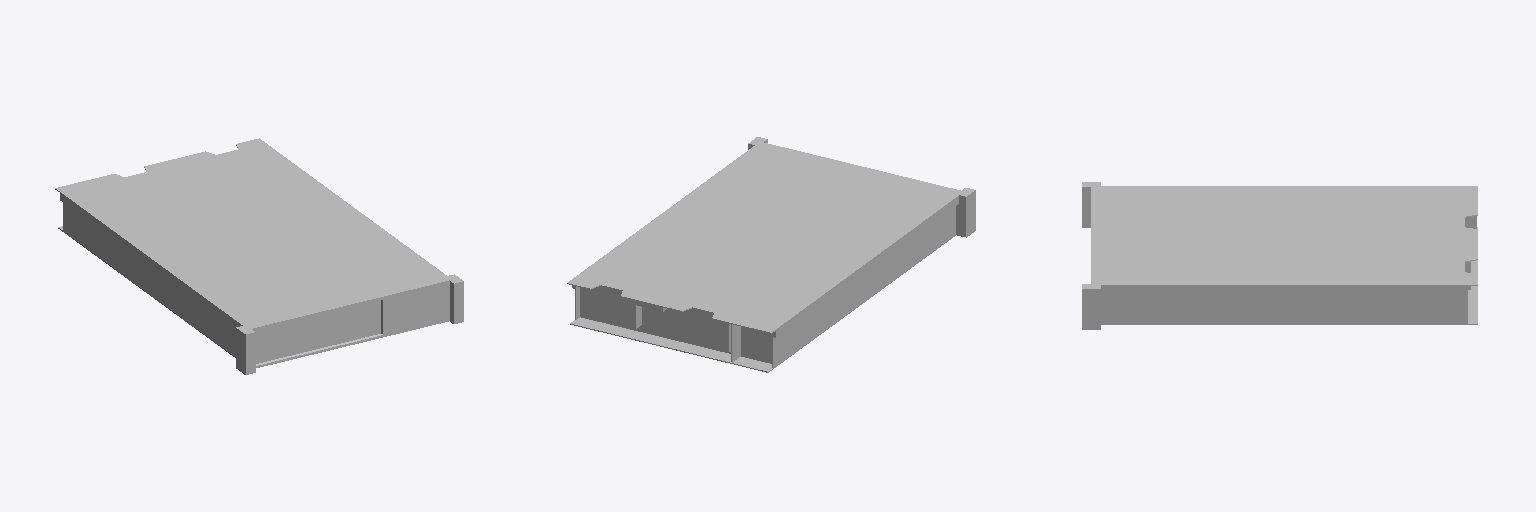
Rendered from X3650M5_jixiang.obj.
3 renders of one model, left to right at view 1: azimuth 30°, elevation 25°; view 2: azimuth 150°, elevation 25°; view 3: azimuth 270°, elevation 25°, orthographic.
Visible parts, largest first — view 1: X3650M5_jixiang; view 2: X3650M5_jixiang; view 3: X3650M5_jixiang.
Boxes of the visible parts, x1,y1,x2,y2 form: X3650M5_jixiang: [55, 138, 463, 374]; X3650M5_jixiang: [567, 137, 975, 372]; X3650M5_jixiang: [1082, 182, 1477, 329].
Size of the model in its own units: 17.65 by 3.15 by 27.67.